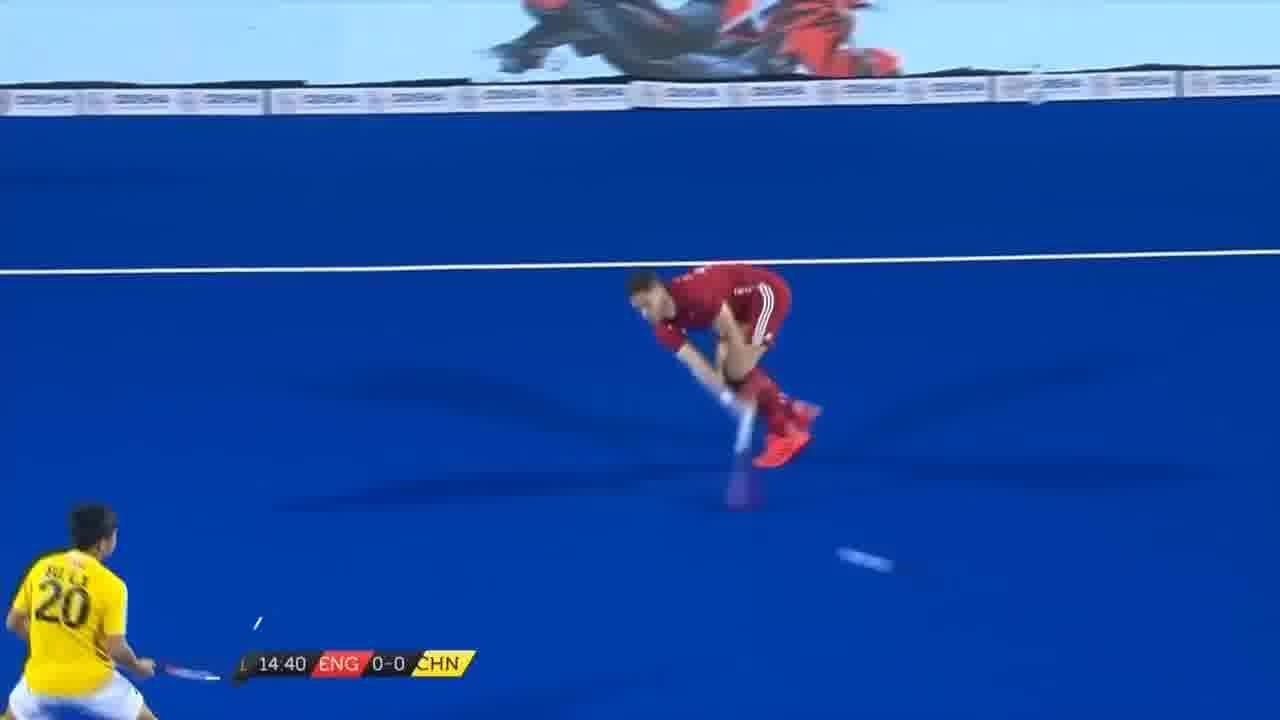ball: (814, 529, 910, 583)
